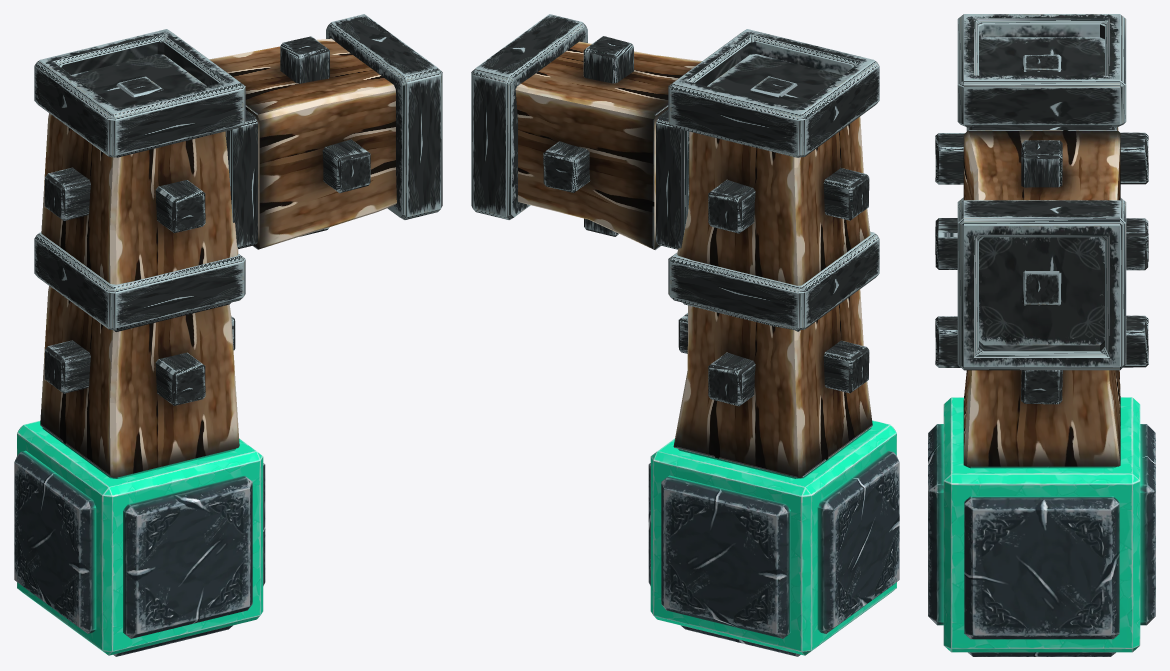
Rendered from step_004.glb.
3 renders of one model, left to right at view 1: azimuth 30°, elevation 25°; view 2: azimuth 150°, elevation 25°; view 3: azimuth 270°, elevation 25°, orthographic. The views are drawn at different scales.
Visible parts, largest first — view 1: SingleWoodenBlock_c4f265ad-6399-45ad-a71c-d23891248bc4, StartingBlock_54787111-893b-4fae-81f2-2bd6027e068a; view 2: SingleWoodenBlock_c4f265ad-6399-45ad-a71c-d23891248bc4, StartingBlock_54787111-893b-4fae-81f2-2bd6027e068a; view 3: SingleWoodenBlock_c4f265ad-6399-45ad-a71c-d23891248bc4, StartingBlock_54787111-893b-4fae-81f2-2bd6027e068a.
Boxes of the visible parts, left/top/right/bottom form: SingleWoodenBlock_c4f265ad-6399-45ad-a71c-d23891248bc4: left=34, top=14, right=442, bottom=477; StartingBlock_54787111-893b-4fae-81f2-2bd6027e068a: left=14, top=421, right=265, bottom=656; SingleWoodenBlock_c4f265ad-6399-45ad-a71c-d23891248bc4: left=471, top=14, right=879, bottom=477; StartingBlock_54787111-893b-4fae-81f2-2bd6027e068a: left=648, top=420, right=899, bottom=656; SingleWoodenBlock_c4f265ad-6399-45ad-a71c-d23891248bc4: left=935, top=14, right=1148, bottom=466; StartingBlock_54787111-893b-4fae-81f2-2bd6027e068a: left=928, top=397, right=1155, bottom=656.
Size of the model in its own units: 2.18 by 3.17 by 1.13.
2 materials, 2 textured.
